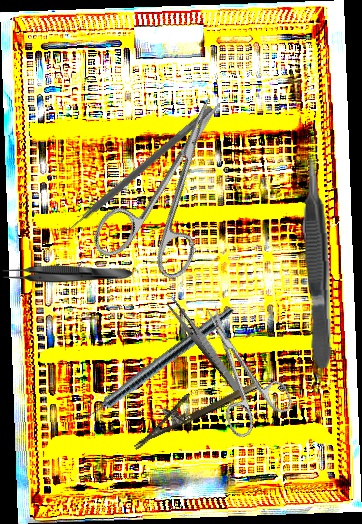Dressing Forceps: (165, 297, 248, 399)
Handpiece: (73, 300, 237, 431)
Iris Scissors: (86, 76, 264, 293), (182, 292, 298, 441)
Needle Holder: (123, 363, 263, 450)
Spatula Surgical: (55, 98, 215, 241)
Tissue Forceps: (299, 154, 335, 369), (2, 265, 133, 283)
